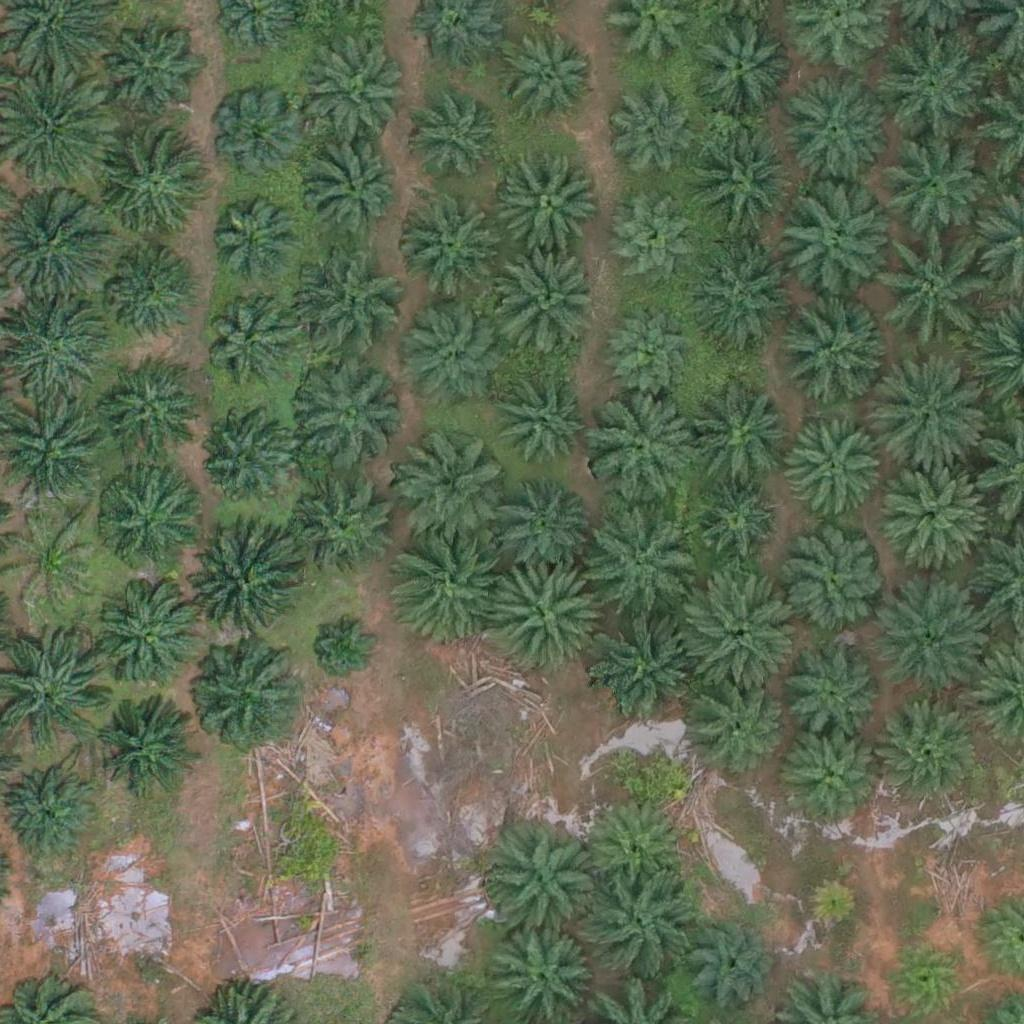Kelapa_Sawit: (877, 363, 990, 477), (771, 189, 884, 302), (579, 494, 692, 607), (592, 611, 705, 724), (486, 558, 599, 671), (391, 299, 504, 412), (391, 418, 504, 531), (383, 532, 496, 645), (486, 827, 599, 940), (288, 359, 401, 472), (187, 528, 300, 641), (869, 696, 981, 810), (582, 392, 694, 506), (392, 192, 504, 306), (95, 578, 207, 692), (686, 124, 798, 238), (301, 33, 413, 147), (4, 186, 116, 300), (877, 585, 989, 698), (877, 458, 989, 571), (884, 233, 996, 346), (769, 294, 881, 407), (687, 242, 799, 355), (684, 382, 796, 495), (684, 570, 796, 683), (495, 245, 607, 358), (587, 867, 699, 980), (295, 242, 407, 355), (189, 644, 301, 757), (875, 121, 987, 234), (874, 30, 986, 143), (781, 77, 893, 190), (490, 146, 602, 259), (98, 137, 210, 250), (783, 420, 883, 521), (783, 532, 883, 633), (785, 641, 885, 742), (680, 680, 780, 781), (493, 477, 593, 578), (497, 364, 597, 465), (586, 797, 686, 898), (297, 478, 397, 579), (194, 410, 294, 511), (3, 506, 103, 607), (685, 16, 785, 117), (495, 24, 595, 125), (407, 93, 507, 194), (207, 85, 307, 186), (99, 25, 199, 126), (785, 727, 885, 827), (96, 697, 196, 797), (100, 368, 200, 468), (93, 469, 193, 569), (303, 140, 403, 240), (688, 478, 776, 566), (605, 308, 693, 396), (693, 917, 781, 1005), (205, 297, 293, 385), (102, 251, 190, 339), (613, 93, 701, 181), (208, 194, 296, 282), (881, 934, 968, 1022), (608, 198, 695, 286), (307, 607, 382, 682), (798, 875, 861, 938)
